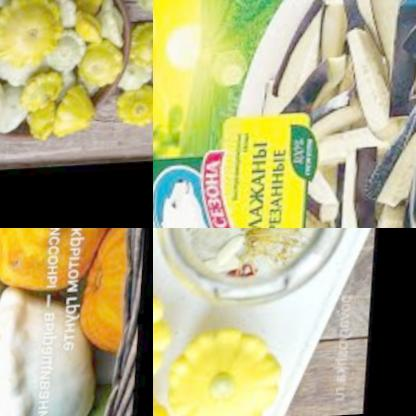eggplant: (254, 0, 416, 228)
garlic: (210, 234, 250, 273)
squash-patisson: (0, 0, 131, 146), (0, 286, 96, 416), (157, 323, 286, 416), (0, 228, 122, 303), (77, 228, 144, 364), (115, 0, 153, 136), (153, 272, 181, 402), (153, 380, 186, 416)
